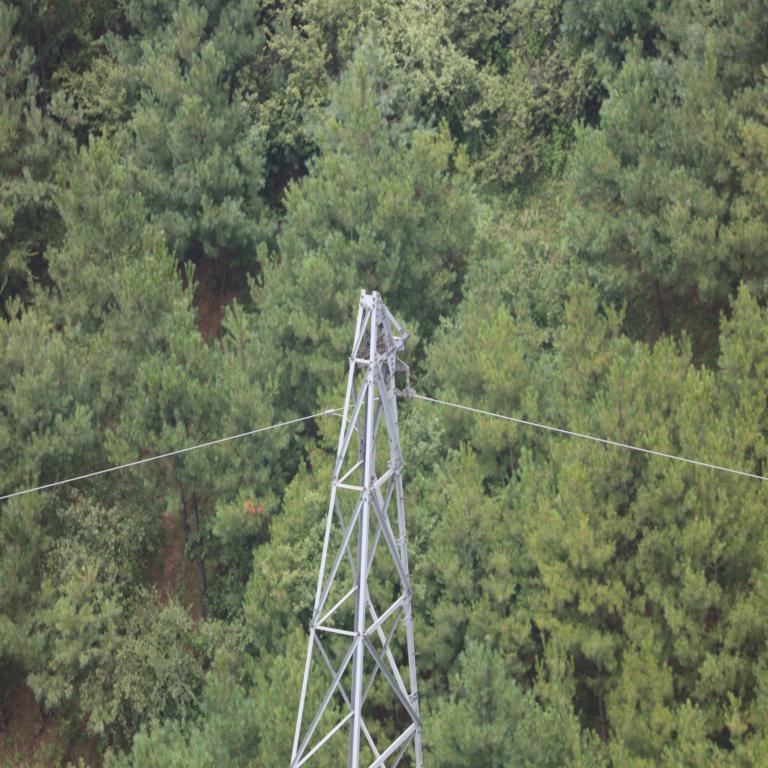nest: (362, 338, 391, 356)
